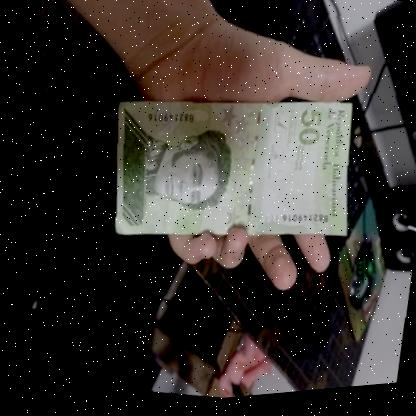fifty-front-vef: (94, 67, 367, 277)
